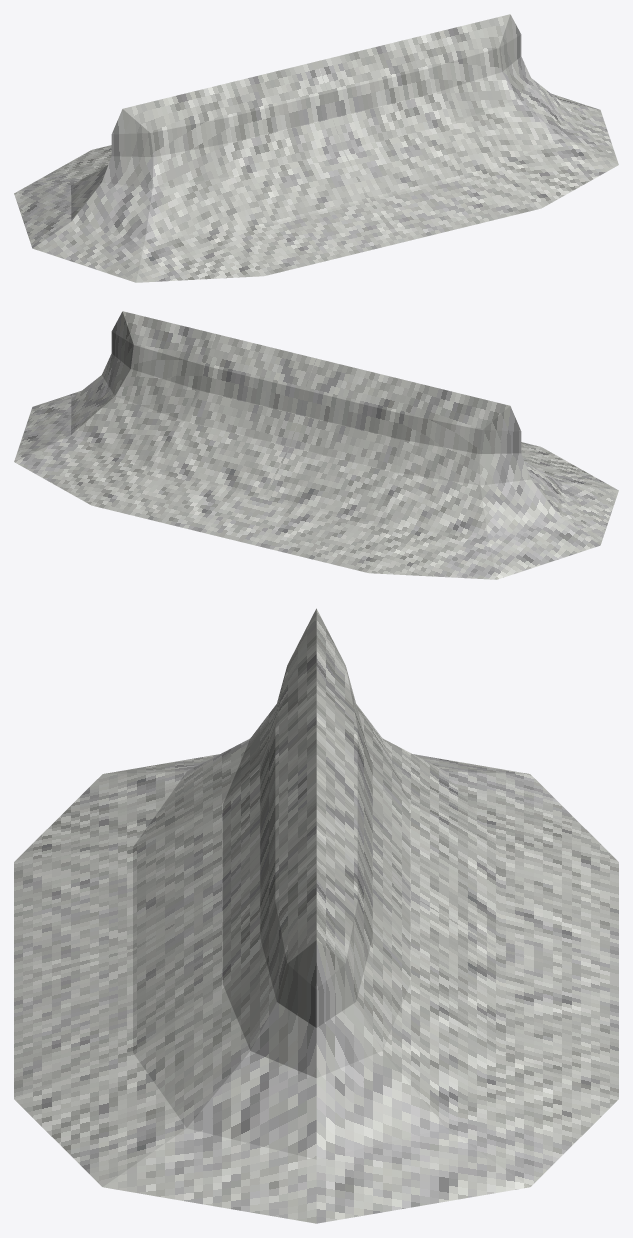
Rendered from Schnee.fbx.
3 renders of one model, top to bottom at view 1: azimuth 30°, elevation 25°; view 2: azimuth 150°, elevation 25°; view 3: azimuth 270°, elevation 25°, orthographic. The views are drawn at different scales.
Parts seen in each view (by area): view 1: Schnee; view 2: Schnee; view 3: Schnee.
Part boxes in pixels (x1,y1,x2,y2): Schnee: [14, 14, 618, 282]; Schnee: [14, 311, 618, 579]; Schnee: [14, 608, 618, 1223].
Size of the model in its own units: 222 by 43.97 by 117.
Materials: 1 (1 with a texture image).
